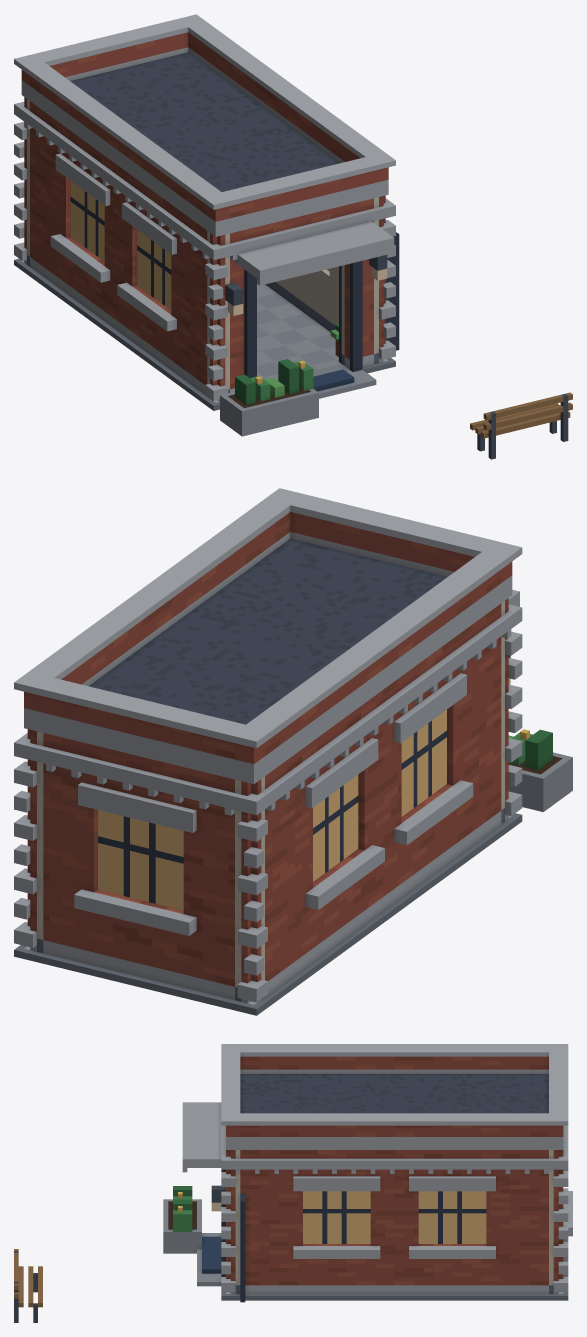
The picture shows the model from 3 angles, top to bottom: view 1: azimuth 30°, elevation 25°; view 2: azimuth 150°, elevation 25°; view 3: azimuth 270°, elevation 25°; orthographic projection. The views are drawn at different scales.
Parts seen in each view (by area): view 1: CutRoof, Base, CutNX, CutPZ, CutNZ; view 2: CutRoof, CutNZ, CutNX, Base, CutPZ; view 3: CutRoof, CutPX, Base, CutPZ, CutNZ.
Part boxes in pixels (<box>): CutRoof: <box>14,14,395,236</box>; Base: <box>14,219,572,459</box>; CutNX: <box>19,101,212,349</box>; CutPZ: <box>205,195,399,360</box>; CutNZ: <box>14,97,29,221</box>; CutRoof: <box>14,488,522,783</box>; CutNZ: <box>14,729,267,948</box>; CutNX: <box>258,603,514,934</box>; Base: <box>14,729,572,1015</box>; CutPZ: <box>501,589,522,763</box>; CutRoof: <box>221,1044,568,1149</box>; CutPX: <box>231,1150,558,1258</box>; Base: <box>14,1186,568,1322</box>; CutPZ: <box>182,1102,245,1262</box>; CutNZ: <box>549,1125,572,1256</box>.
Size of the model in its own units: 5.1 by 4.1 by 11.6.
